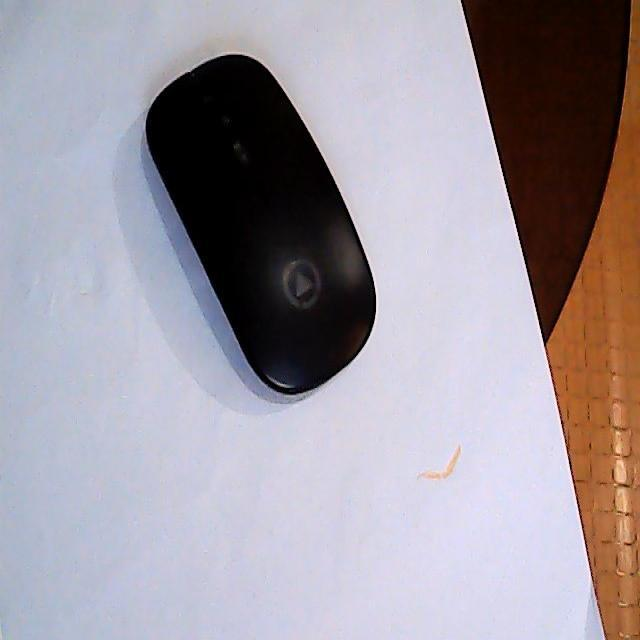mouse: (147, 49, 380, 398)
